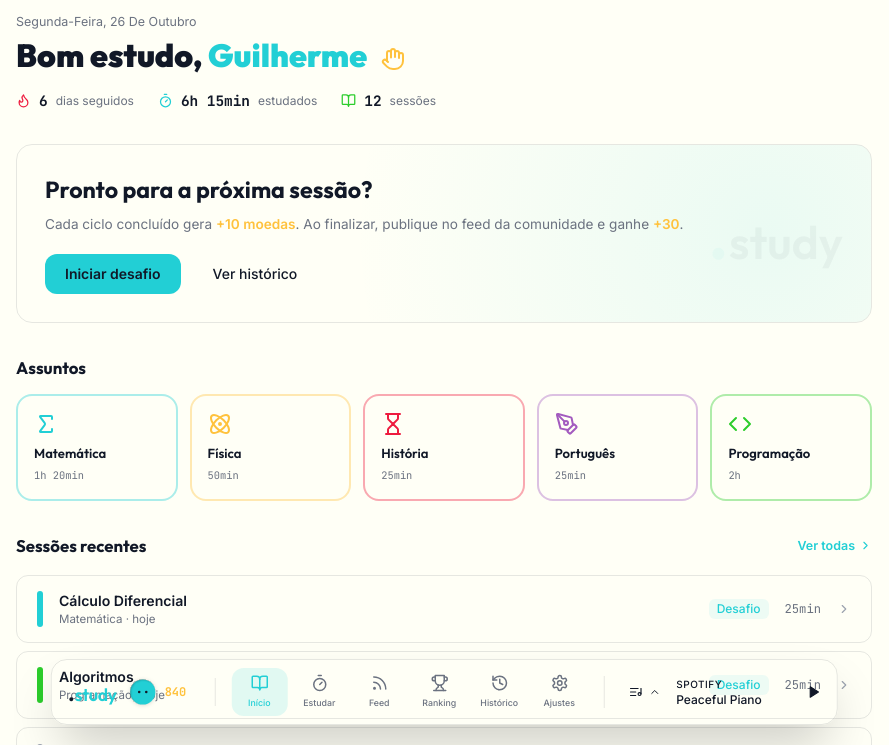
Test case: callback do Spotify › após conectar, o player já mostra a conta conectada e as playlists do usuário, sem recarregar
What coordinates should you click on to do the following:
click the button named "Playlists do Spotify"
I would click on:
 (644, 692)
Its box is [620,679,668,705].
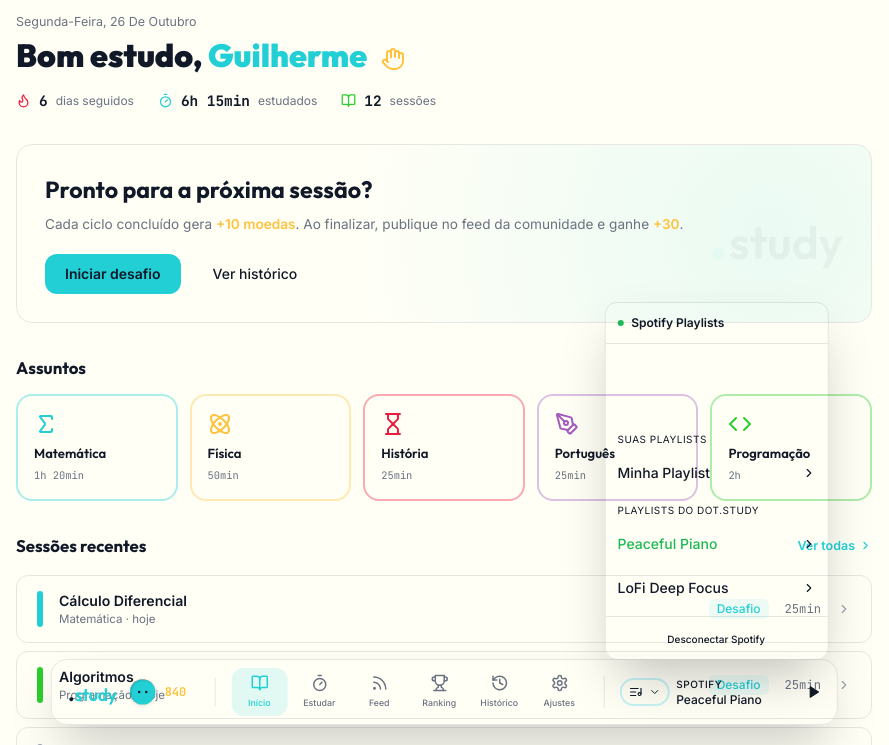
Check: the button "Desconectar Spotify" is shown, box [613,628,819,651]
Check: the button "Minha Playlist" is shown, box [605,451,827,495]
